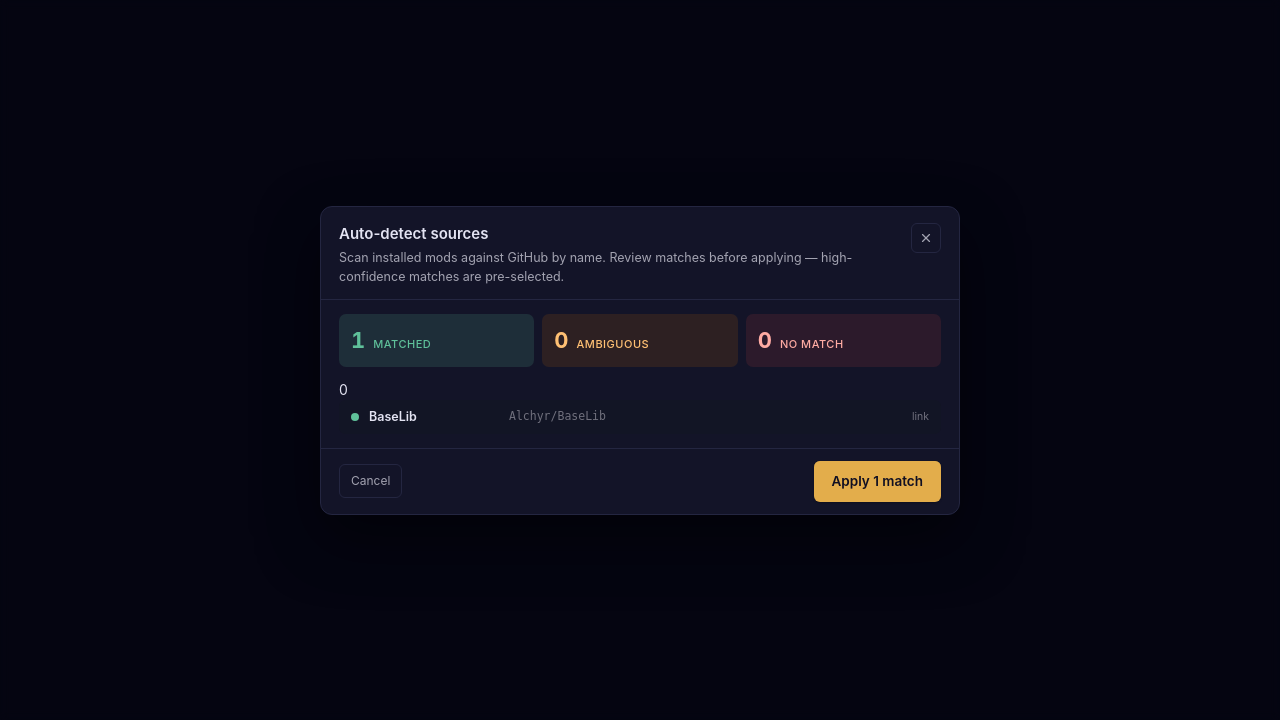
Test: <AutoDetectModal> › handleApply › uses the singular success toast when exactly one mod links
Click the button "Apply 1 match": (877, 481) [814,461,941,502]
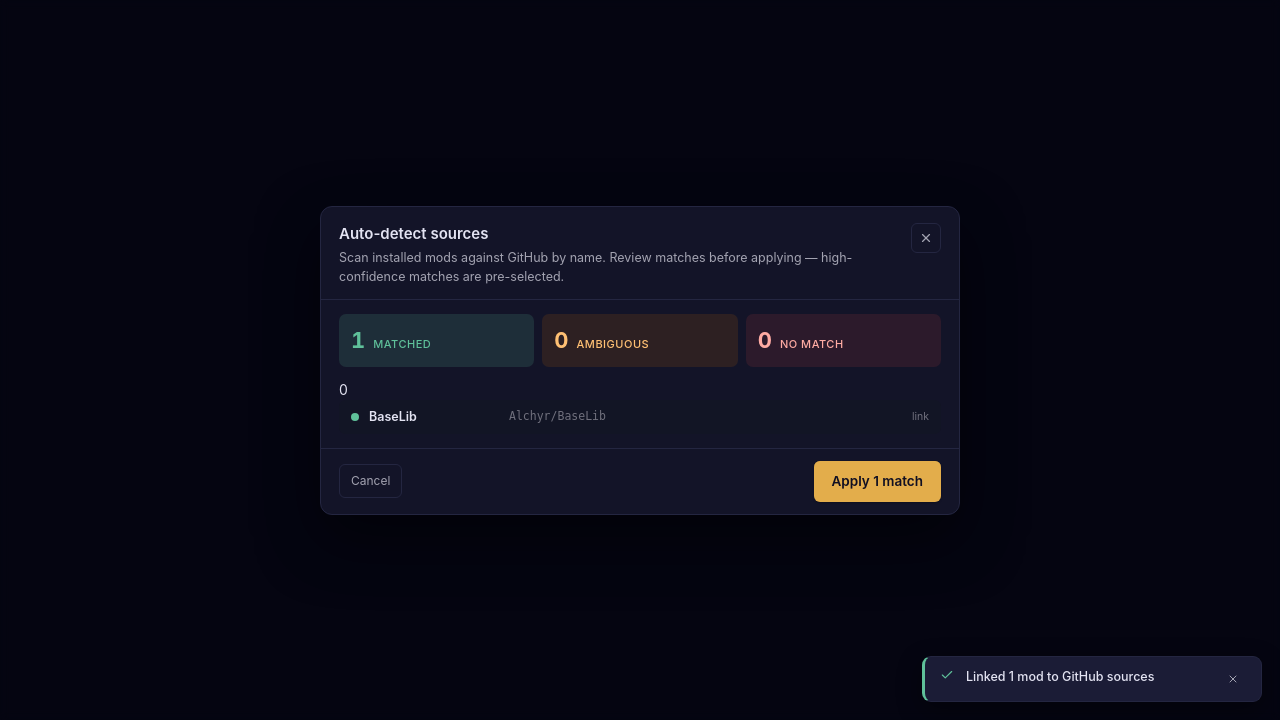
Check: the text "Linked 1 mod to GitHub sources" is shown, box [966,669,1154,684]
